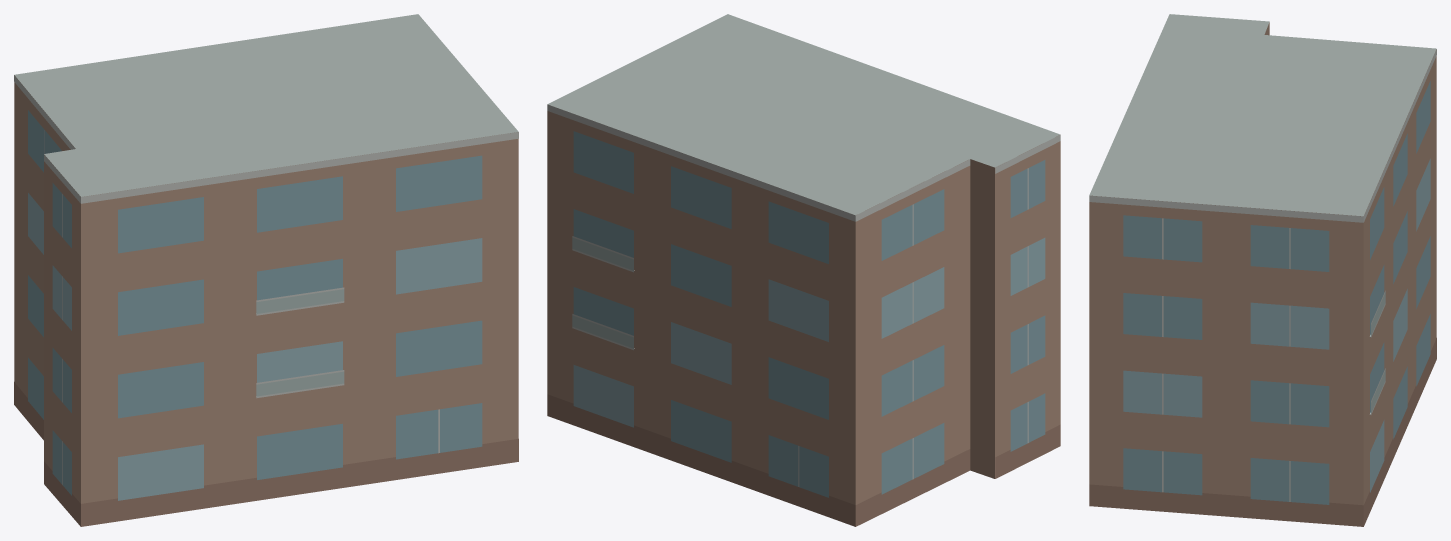
File: survey-upis-32742676.glb
3 renders of one model, left to right at view 1: azimuth 30°, elevation 25°; view 2: azimuth 150°, elevation 25°; view 3: azimuth 270°, elevation 25°, orthographic. The views are drawn at different scales.
Visible parts, largest first — view 1: survey-upis-32742676.tmp; view 2: survey-upis-32742676.tmp; view 3: survey-upis-32742676.tmp.
Part boxes in pixels (<box>): survey-upis-32742676.tmp: <box>14,14,518,526</box>; survey-upis-32742676.tmp: <box>547,14,1060,526</box>; survey-upis-32742676.tmp: <box>1089,14,1436,526</box>.
Bounding box in the file's own units: 16.36 × 11.7 × 11.88.
